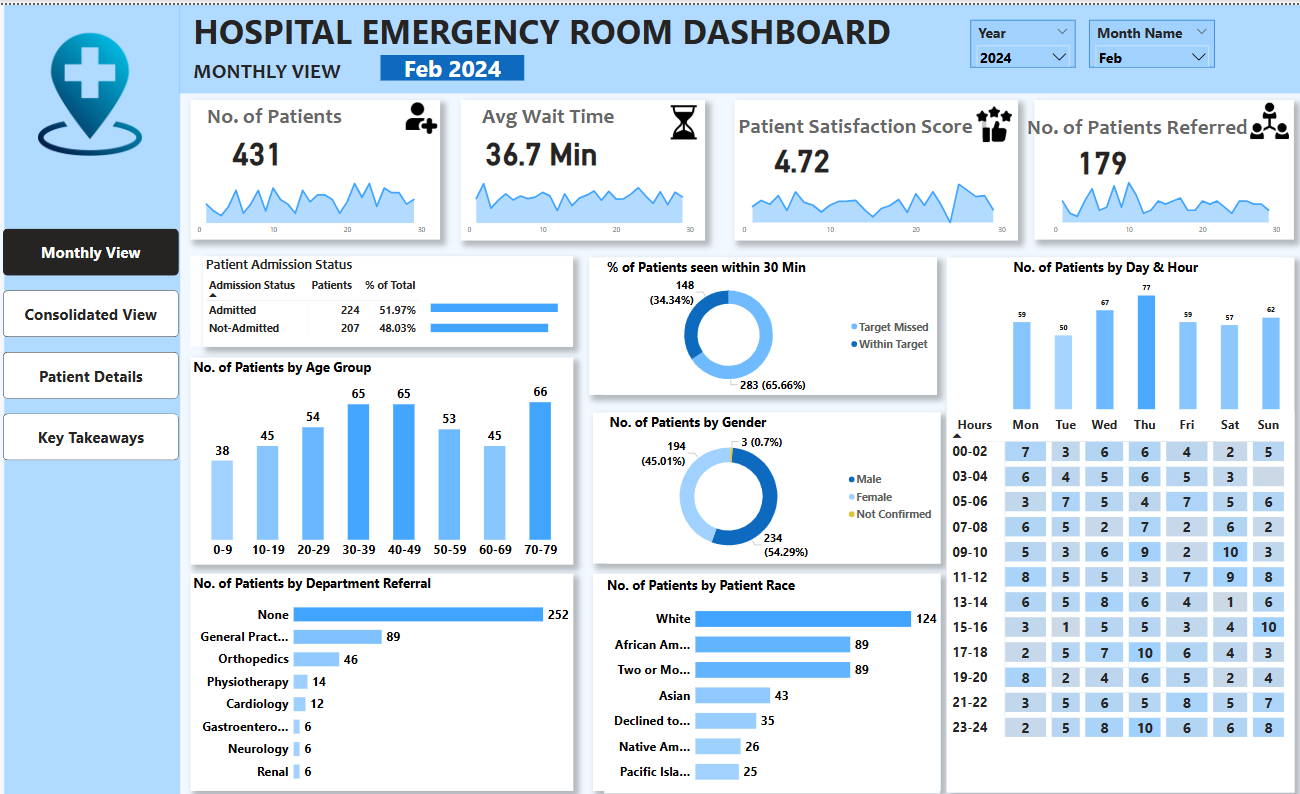

The page's visual inventory and layout, read from the dashboard file:
{"tool":"powerbi","page":{"name":"Monthly View","canvas":[2300,1400],"ordinal":0},"visuals":[{"type":"textbox","box":[337.8,166.7,437.8,244.4],"z":0},{"type":"shape","box":[10.4,0,308.5,1399.9],"z":1000},{"type":"shape","box":[318.6,0,1980.6,155],"z":2000},{"type":"textbox","box":[337.6,0,1241.2,88],"z":3000},{"type":"textbox","box":[337.6,88,285.3,64.2],"z":4000},{"type":"card","fields":{"Values":["Hospital ER_Data.No. of Patients"]},"box":[361.4,221.1,185.5,66.6],"z":5000},{"type":"slicer","fields":{"Values":["Date Table.Year"]},"box":[1705.8,25.9,184.1,83],"z":6000},{"type":"slicer","fields":{"Values":["Date Table.Month Name"]},"box":[1913.2,25.9,220.4,83],"z":7000},{"type":"textbox","box":[361.4,166.4,285.3,59.4],"z":8000},{"type":"areaChart","fields":{"Category":["Date Table.Date.Variation.Date Hierarchy.Day"],"Y":["Hospital ER_Data.No. of Patients"]},"box":[337,287.8,420,124.4],"z":9000},{"type":"card","fields":{"Values":["Min(Date Table.Month & Year)"]},"box":[670.5,88,252,45.2],"z":10000},{"type":"textbox","box":[811.1,166.7,428.9,246.7],"z":11000},{"type":"card","fields":{"Values":["Hospital ER_Data.Avg Wait Time"]},"box":[844.1,221.1,218.8,66.6],"z":12000},{"type":"textbox","box":[843.2,166.9,285.3,59.4],"z":13000},{"type":"areaChart","fields":{"Category":["Date Table.Date.Variation.Date Hierarchy.Day"],"Y":["Avg(Hospital ER_Data.Patient Waittime)"]},"box":[811.4,287.8,417.4,124.4],"z":14000},{"type":"textbox","box":[1291,165.9,497.8,246.3],"z":15000},{"type":"card","fields":{"Values":["Hospital ER_Data.Satisfaction Score"]},"box":[1317.3,233.5,185.5,66.6],"z":16000},{"type":"textbox","box":[1293.5,183.1,444.6,54.7],"z":17000},{"type":"areaChart","fields":{"Category":["Date Table.Date.Variation.Date Hierarchy.Day"],"Y":["Hospital ER_Data.Satisfaction Score"]},"box":[1293.6,300.7,482.2,111.5],"z":18000},{"type":"textbox","box":[1817.8,166.7,455.6,244.4],"z":19000},{"type":"card","fields":{"Values":["Hospital ER_Data.No. of Patients Referred"]},"box":[1842.8,235.9,185.5,66.6],"z":20000},{"type":"textbox","box":[1799.2,186.7,412.2,59.6],"z":21000},{"type":"areaChart","fields":{"Category":["Date Table.Date.Variation.Date Hierarchy.Day"],"Y":["Hospital ER_Data.No. of Patients Referred"]},"box":[1838.1,287.8,417.4,124.4],"z":22000},{"type":"shape","box":[337,440.7,674,158.1],"z":23000},{"type":"pivotTable","title":"Patient Admission Status","fields":{"Rows":["Hospital ER_Data.Admission Status"],"Values":["Hospital ER_Data.No. of Patients1","Hospital ER_Data.No. of Patients"]},"box":[360.4,440.7,648.1,158.1],"z":24000},{"type":"barChart","fields":{"Category":["Hospital ER_Data.Admission Status"],"Y":["Hospital ER_Data.No. of Patients"]},"box":[754.4,492.6,308.5,106.3],"z":25000},{"type":"columnChart","fields":{"Category":["Hospital ER_Data.Age Group"],"Y":["Hospital ER_Data.No. of Patients"]},"box":[337,617,671.4,362.9],"z":26000},{"type":"clusteredBarChart","fields":{"Category":["Hospital ER_Data.Department Referral"],"Y":["Hospital ER_Data.No. of Patients"]},"box":[337,998.1,671.4,381.1],"z":27000},{"type":"shape","box":[1037,443.3,609.2,241.1],"z":28000},{"type":"donutChart","title":"% of Patients seen within 30 Min","fields":{"Category":["Hospital ER_Data.WaitTime Status"],"Y":["Hospital ER_Data.No. of Patients"]},"box":[1062.9,443.3,583.3,241.1],"z":29000},{"type":"shape","box":[1042.2,715.5,609.2,264.4],"z":30000},{"type":"donutChart","title":"No. of Patients by Gender","fields":{"Y":["Hospital ER_Data.No. of Patients"],"Category":["Hospital ER_Data.Patient Gender"]},"box":[1068.1,715.5,583.3,264.4],"z":31000},{"type":"shape","box":[1042.2,998.1,609.2,381.1],"z":32000},{"type":"clusteredBarChart","fields":{"Y":["Hospital ER_Data.No. of Patients"],"Category":["Hospital ER_Data.Patient Race"]},"box":[1062.9,1000.7,588.5,381.1],"z":33000},{"type":"shape","box":[1664.4,443.3,609.2,938.5],"z":34000},{"type":"pivotTable","fields":{"Rows":["Hospital ER_Data.Waittime Interval"],"Columns":["Date Table.Day Name"],"Values":["Hospital ER_Data.No. of Patients"]},"box":[1663.4,714.5,609.3,664.1],"z":35000},{"type":"columnChart","title":"No. of Patients by Day & Hour","fields":{"Category":["Date Table.Day Name"],"Y":["Hospital ER_Data.No. of Patients"]},"box":[1775.8,443.3,479.6,272.2],"z":36000},{"type":"image","box":[710.3,163.3,64.8,67.4],"z":37000},{"type":"image","box":[1166.6,171.1,72.6,70],"z":38000},{"type":"image","box":[1705.8,173.7,83,72.6],"z":39000},{"type":"image","box":[2185.4,163.3,88.1,77.8],"z":40000},{"type":"image","box":[46.7,44.1,230.7,225.5],"z":41000},{"type":"pageNavigator","box":[7.8,391.5,308.5,407],"z":42000}]}

Visuals, with their boxes in screenshot pixels (x1, y1, x2, y2), scaled from the page's 2300x1400 canvas onto the 1300x794 screenshot:
textbox: <box>191,95,438,233</box>
shape: <box>6,0,180,793</box>
shape: <box>180,0,1299,88</box>
textbox: <box>191,0,892,50</box>
textbox: <box>191,50,352,86</box>
card - Hospital ER_Data.No. of Patients: <box>204,125,309,163</box>
slicer - Date Table.Year: <box>964,15,1068,62</box>
slicer - Date Table.Month Name: <box>1081,15,1206,62</box>
textbox: <box>204,94,366,128</box>
areaChart - Date Table.Date.Variation.Date Hierarchy.Day x Hospital ER_Data.No. of Patients: <box>190,163,428,234</box>
card - Min(Date Table.Month & Year): <box>379,50,521,76</box>
textbox: <box>458,95,701,234</box>
card - Hospital ER_Data.Avg Wait Time: <box>477,125,601,163</box>
textbox: <box>477,95,638,128</box>
areaChart - Date Table.Date.Variation.Date Hierarchy.Day x Avg(Hospital ER_Data.Patient Waittime): <box>459,163,695,234</box>
textbox: <box>730,94,1011,234</box>
card - Hospital ER_Data.Satisfaction Score: <box>745,132,849,170</box>
textbox: <box>731,104,982,135</box>
areaChart - Date Table.Date.Variation.Date Hierarchy.Day x Hospital ER_Data.Satisfaction Score: <box>731,171,1004,234</box>
textbox: <box>1027,95,1285,233</box>
card - Hospital ER_Data.No. of Patients Referred: <box>1042,134,1146,172</box>
textbox: <box>1017,106,1250,140</box>
areaChart - Date Table.Date.Variation.Date Hierarchy.Day x Hospital ER_Data.No. of Patients Referred: <box>1039,163,1275,234</box>
shape: <box>190,250,571,340</box>
"Patient Admission Status" pivotTable: <box>204,250,570,340</box>
barChart - Hospital ER_Data.Admission Status x Hospital ER_Data.No. of Patients: <box>426,279,601,340</box>
columnChart - Hospital ER_Data.Age Group x Hospital ER_Data.No. of Patients: <box>190,350,570,556</box>
clusteredBarChart - Hospital ER_Data.Department Referral x Hospital ER_Data.No. of Patients: <box>190,566,570,782</box>
shape: <box>586,251,930,388</box>
"% of Patients seen within 30 Min" donutChart: <box>601,251,930,388</box>
shape: <box>589,406,933,556</box>
"No. of Patients by Gender" donutChart: <box>604,406,933,556</box>
shape: <box>589,566,933,782</box>
clusteredBarChart - Hospital ER_Data.No. of Patients x Hospital ER_Data.Patient Race: <box>601,568,933,784</box>
shape: <box>941,251,1285,784</box>
pivotTable - Hospital ER_Data.Waittime Interval x Date Table.Day Name: <box>940,405,1285,782</box>
"No. of Patients by Day & Hour" columnChart: <box>1004,251,1275,406</box>
image: <box>401,93,438,131</box>
image: <box>659,97,700,137</box>
image: <box>964,99,1011,140</box>
image: <box>1235,93,1285,137</box>
image: <box>26,25,157,153</box>
pageNavigator: <box>4,222,179,453</box>
